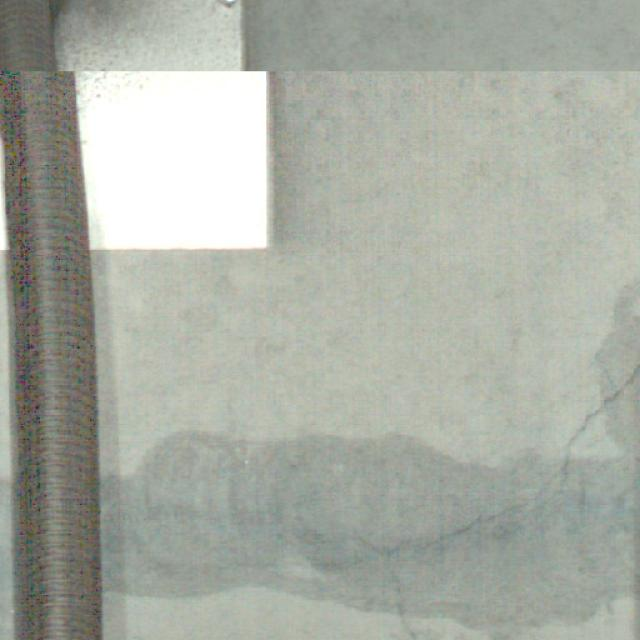Network: (149, 330, 640, 640)
